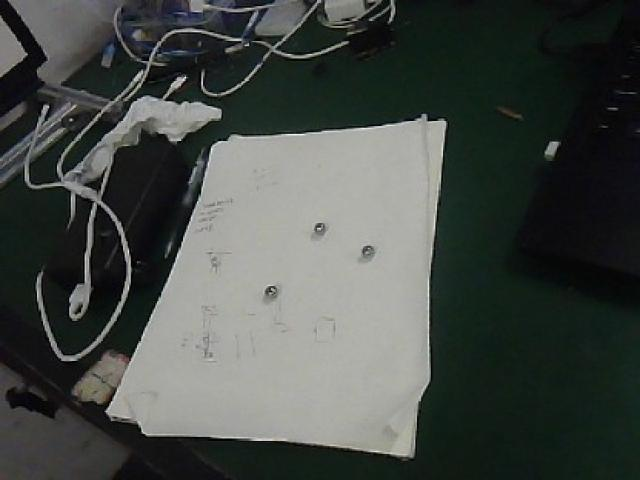steel-ball: (255, 272, 291, 322), (308, 208, 346, 254), (348, 226, 380, 268)
